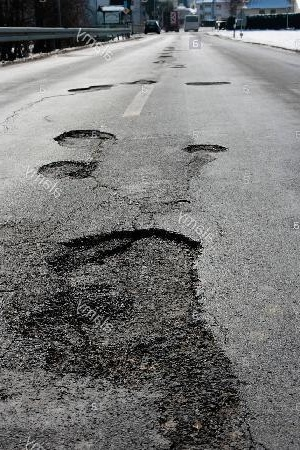pothole: (17, 224, 207, 391), (34, 156, 99, 182), (51, 126, 118, 147), (66, 81, 119, 94), (183, 142, 229, 153), (183, 78, 232, 86), (123, 77, 160, 87), (153, 56, 167, 65)
